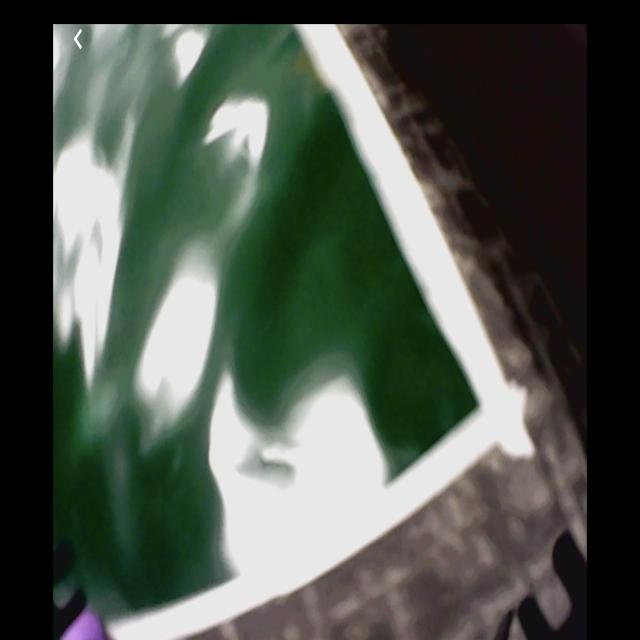ball: (61, 607, 108, 639)
